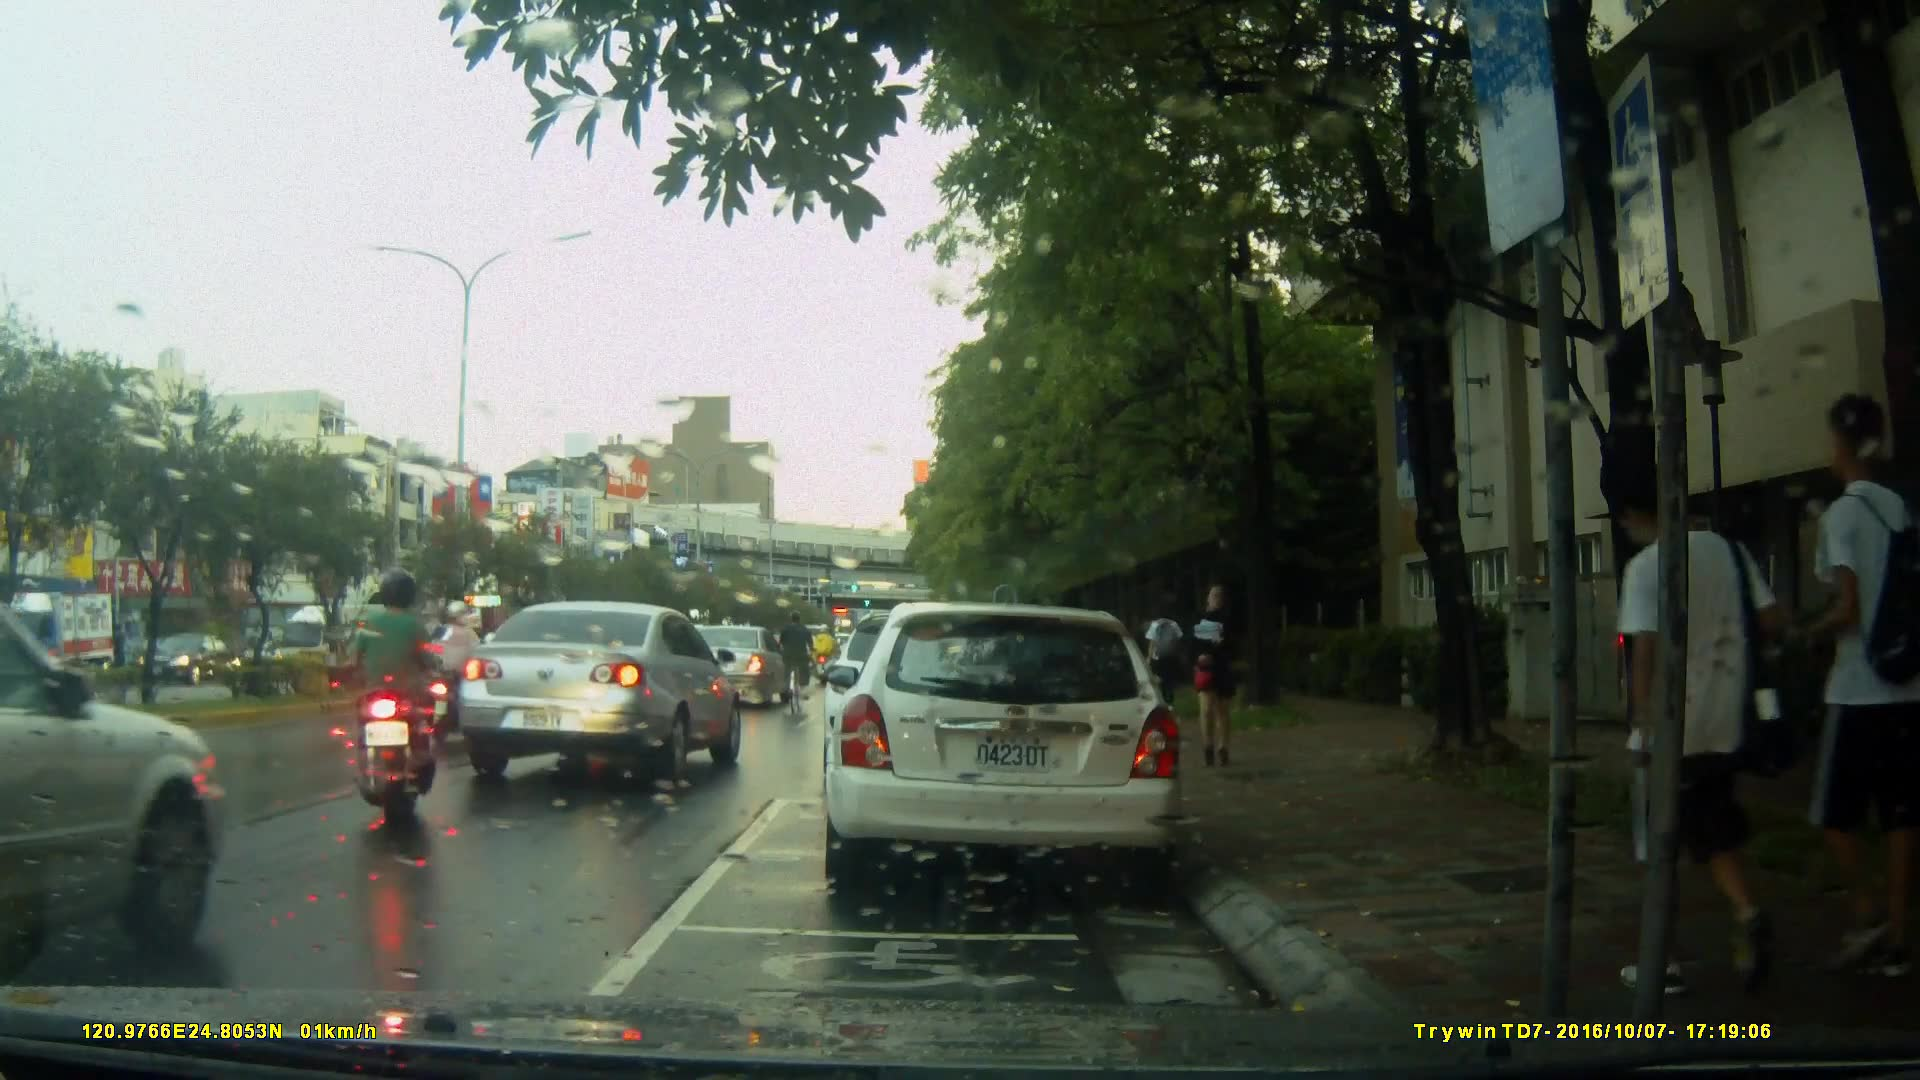pedestrian: (1588, 437, 1752, 997), (1769, 417, 1871, 966), (1174, 580, 1236, 770), (1145, 604, 1193, 732)
rider: (347, 571, 440, 837), (413, 592, 495, 744), (775, 612, 809, 721), (811, 620, 836, 692)
vehicle: (820, 602, 1188, 898), (1, 553, 233, 985), (453, 596, 746, 788), (662, 625, 794, 710)
